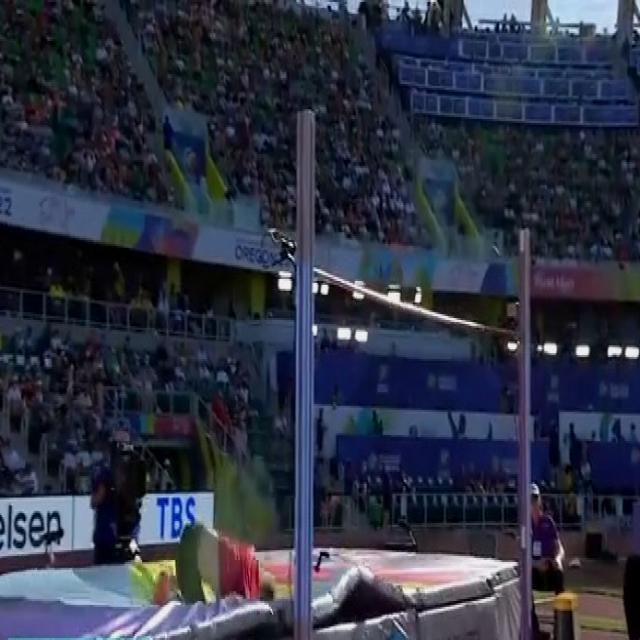land: (152, 518, 277, 610)
